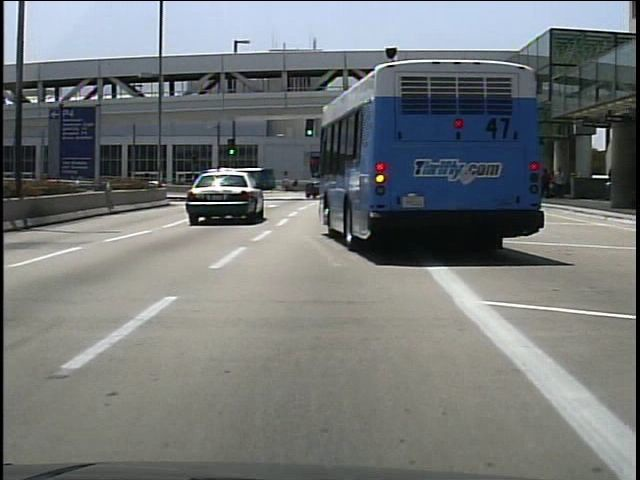person: (551, 166, 570, 200), (290, 177, 301, 196), (280, 176, 291, 194)
